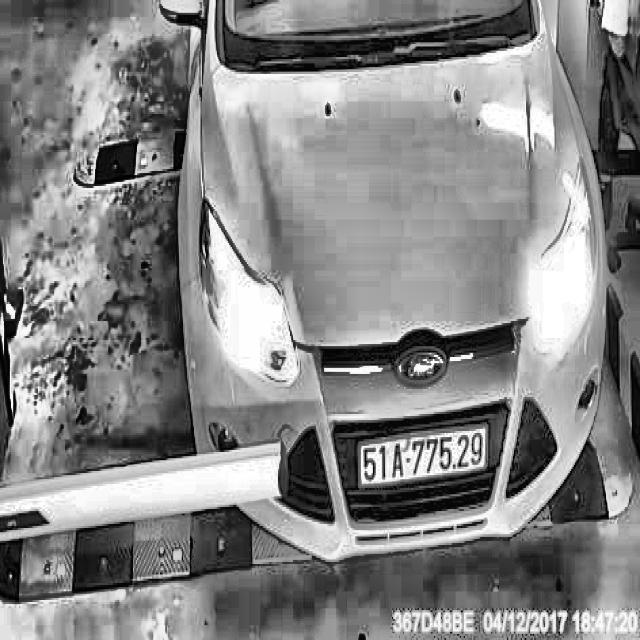plate: (355, 420, 490, 492)
